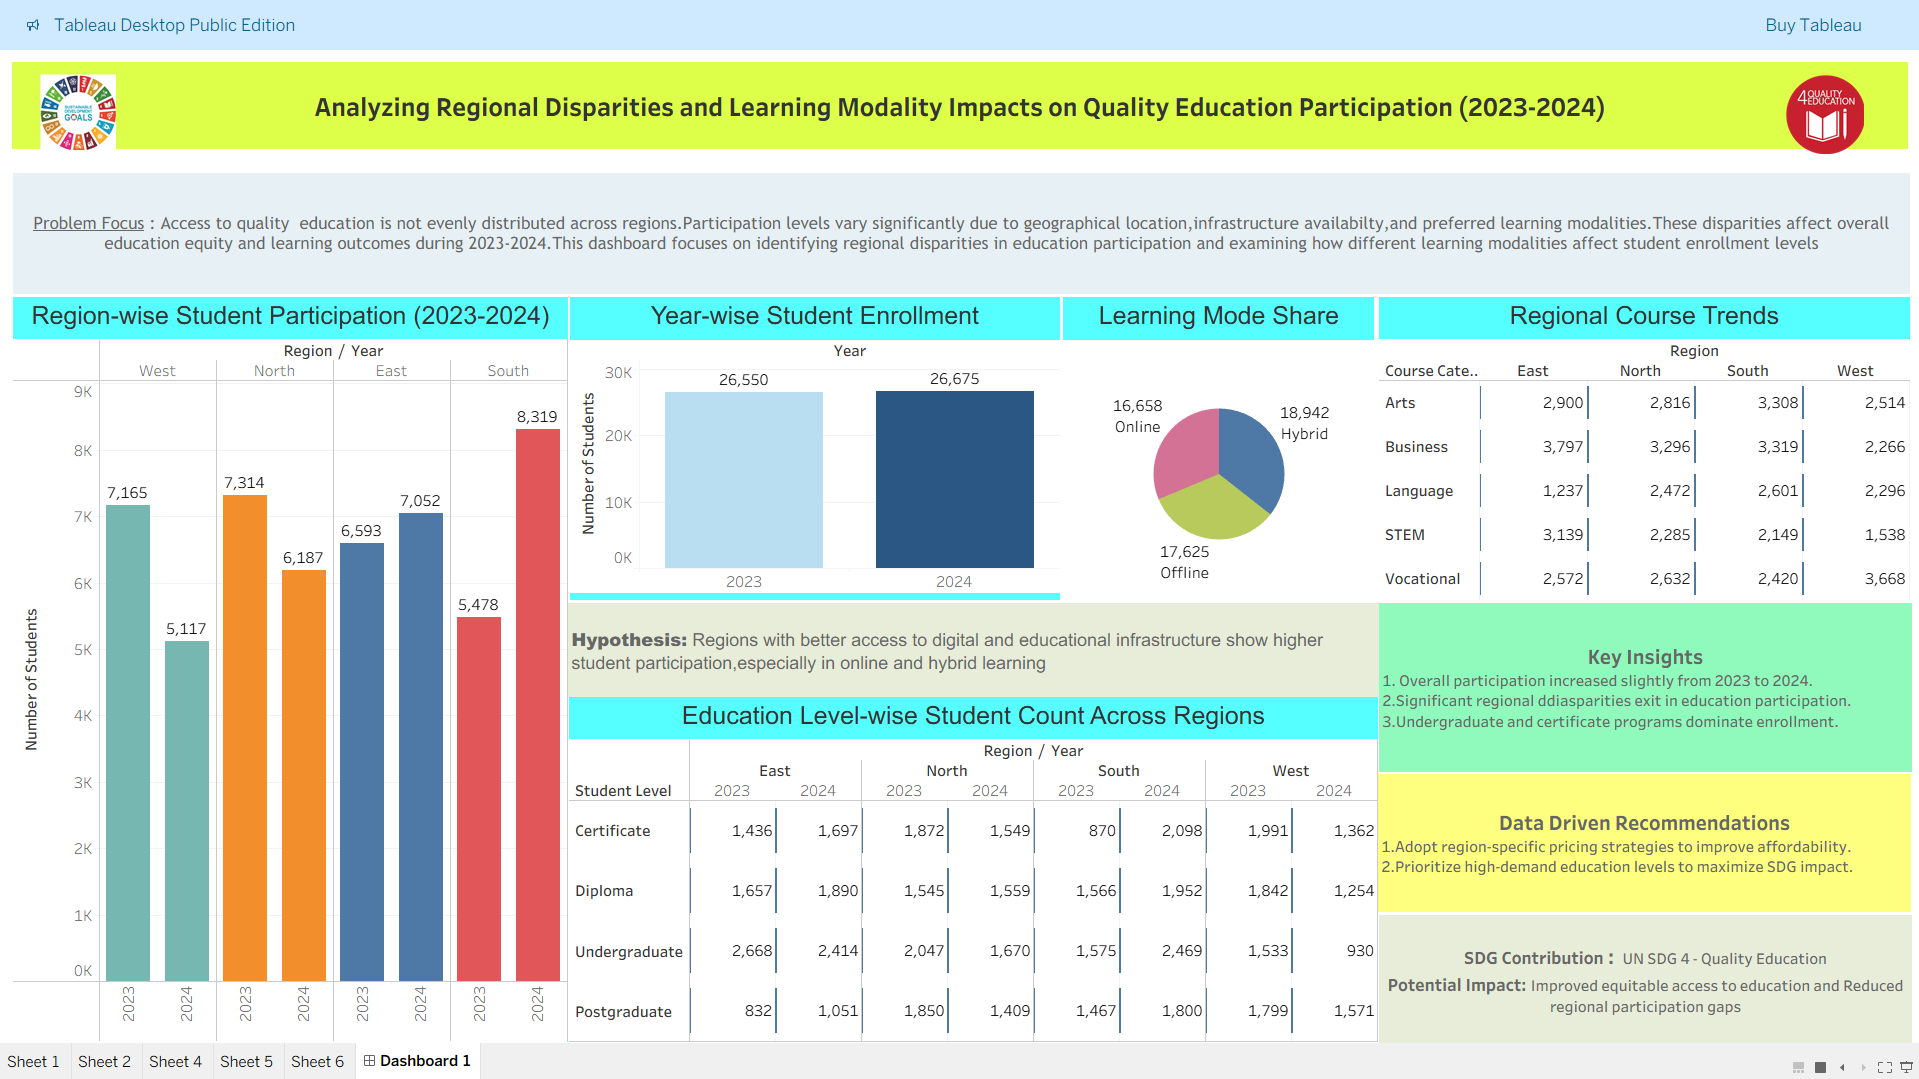

The page's visual inventory and layout, read from the dashboard file:
{"tool":"tableau","page":{"name":"Dashboard 1","canvas":[1000,1000],"units":"permille","ordinal":0},"visuals":[{"type":"title","box":[4.8,9.2,990.3,109.8]},{"type":"image","param":"Image/623647_1_En_3_Fig1_HTML.png","box":[19.3,23.7,42.9,77.4]},{"type":"image","param":"Image/Bluechips_Goal_No4icon-640w.png","box":[930,23.7,41,81.2]},{"type":"text","box":[6.6,123.6,987.9,122.4]},{"type":"worksheet","title":"Sheet 2","mark":"Bar","rows":["Number_of_Students"],"cols":["Region","YEAR"],"box":[6.6,248.4,289.1,750.3]},{"type":"worksheet","title":"Sheet 3","mark":"Bar","rows":["Number_of_Students"],"cols":["YEAR"],"box":[296.9,248.4,255.3,305.9]},{"type":"worksheet","title":"Sheet 4","mark":"Pie","box":[553.4,248.4,162.3,313.4]},{"type":"worksheet","title":"Sheet 6","mark":"GanttBar","rows":["Course_Category"],"cols":["Region"],"box":[718.2,248.4,276.4,305.9]},{"type":"text","box":[295.7,556.8,422.4,94.9]},{"type":"text","box":[718.2,556.8,277.6,169.8]},{"type":"worksheet","title":"Sheet 5","mark":"Bar","rows":["Student_Level"],"cols":["Region","YEAR"],"box":[296.3,651.7,421.2,347.1]},{"type":"text","box":[717.6,729.1,277.6,138.6]},{"type":"text","box":[718.2,871.4,277.6,129.8]}]}

Visuals, with their boxes on the dashboard's canvas, which has no fixed pixel size, in thousandths of its width and height (x1, y1, x2, y2). These are canvas units, not pixel positions in the 1919x1079 screenshot, which may show the page scaled, cropped or inside an application window:
title: (x1=5, y1=9, x2=995, y2=119)
image: (x1=19, y1=24, x2=62, y2=101)
image: (x1=930, y1=24, x2=971, y2=105)
text: (x1=7, y1=124, x2=994, y2=246)
"Sheet 2" worksheet (Bar marks): (x1=7, y1=248, x2=296, y2=999)
"Sheet 3" worksheet (Bar marks): (x1=297, y1=248, x2=552, y2=554)
"Sheet 4" worksheet (Pie marks): (x1=553, y1=248, x2=716, y2=562)
"Sheet 6" worksheet (GanttBar marks): (x1=718, y1=248, x2=995, y2=554)
text: (x1=296, y1=557, x2=718, y2=652)
text: (x1=718, y1=557, x2=996, y2=727)
"Sheet 5" worksheet (Bar marks): (x1=296, y1=652, x2=718, y2=999)
text: (x1=718, y1=729, x2=995, y2=868)
text: (x1=718, y1=871, x2=996, y2=1001)
